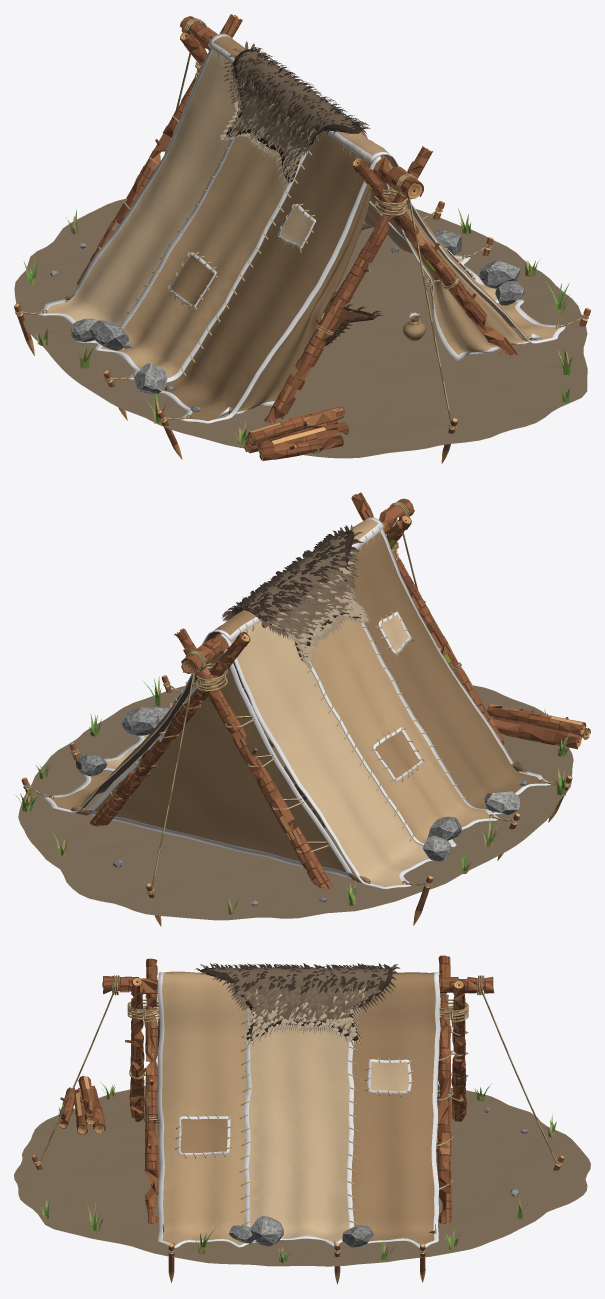
The model's file is Tent.fbx.
3 views of the same model, one above another, from view 1: azimuth 30°, elevation 25°; view 2: azimuth 150°, elevation 25°; view 3: azimuth 270°, elevation 25° (orthographic). The views are drawn at different scales.
Parts seen in each view (by area): view 1: TentGround, Hide_L1, Hide_L2, Hide_L3, Hide_Top, Door_L, Door_R, Pole_02, Hide_R1, Pole_01, Pole_04, Ridge (+9 smaller); view 2: TentGround, Hide_Back, Hide_L3, Hide_L1, Hide_L2, Hide_Top, Pole_04, Hide_R3, Pole_03, Pole_02, Ridge, Firewood_03 (+7 smaller); view 3: TentGround, Hide_R1, Hide_R2, Hide_R3, Hide_Top, Pole_03, Pole_01, Pole_02, Pole_04, Ridge, Rock_02, Stake_08 (+5 smaller).
Part boxes in pixels (box(x1,y1,x2,y2)): TentGround: box(14, 198, 587, 458); Hide_L1: box(159, 131, 381, 423); Hide_L2: box(95, 136, 318, 382); Hide_L3: box(37, 48, 237, 344); Hide_Top: box(216, 41, 370, 189); Door_L: box(217, 162, 377, 417); Door_R: box(382, 155, 542, 360); Pole_02: box(264, 146, 432, 423); Hide_R1: box(325, 130, 566, 343); Pole_01: box(352, 157, 517, 355); Pole_04: box(76, 14, 242, 284); Ridge: box(179, 16, 423, 199); TentGround: box(18, 685, 573, 920); Hide_Back: box(69, 649, 371, 883); Hide_L3: box(220, 621, 445, 889); Hide_L1: box(347, 529, 550, 814); Hide_L2: box(293, 618, 499, 847); Hide_Top: box(221, 525, 371, 668); Pole_04: box(174, 628, 332, 888); Hide_R3: box(44, 609, 260, 813); Pole_03: box(90, 632, 250, 826); Pole_02: box(351, 492, 509, 755); Ridge: box(181, 498, 414, 673); Firewood_03: box(487, 703, 586, 735); TentGround: box(14, 1086, 590, 1266); Hide_R1: box(157, 971, 256, 1248); Hide_R2: box(239, 1008, 359, 1246); Hide_R3: box(351, 971, 440, 1248); Hide_Top: box(195, 963, 400, 1048); Pole_03: box(436, 955, 451, 1223); Pole_01: box(144, 958, 158, 1223); Pole_02: box(125, 977, 145, 1121); Pole_04: box(451, 980, 466, 1121); Ridge: box(102, 976, 494, 994); Rock_02: box(250, 1216, 283, 1246); Stake_08: box(476, 975, 564, 1170).
Size of the model in its own units: 3.52 by 2.01 by 4.43.
